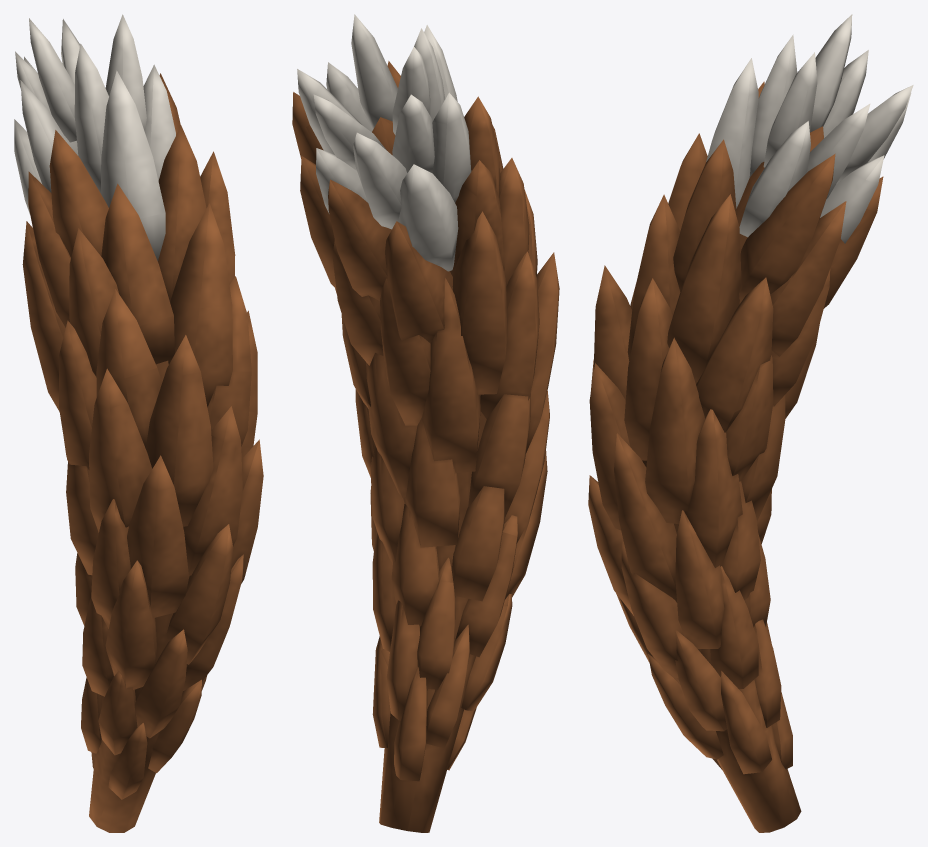
The model's file is cpart_tail_bushy.glb.
3 renders of one model, left to right at view 1: azimuth 30°, elevation 25°; view 2: azimuth 150°, elevation 25°; view 3: azimuth 270°, elevation 25°, orthographic. The views are drawn at different scales.
Visible parts, largest first — view 1: TailBushy; view 2: TailBushy; view 3: TailBushy.
Part boxes in pixels (box(x1,y1,x2,y2)): TailBushy: box(14, 14, 263, 832); TailBushy: box(292, 14, 559, 832); TailBushy: box(588, 14, 913, 832).
Size of the model in its own units: 0.0919 by 0.388 by 0.1446.
2 materials, 2 textured.
